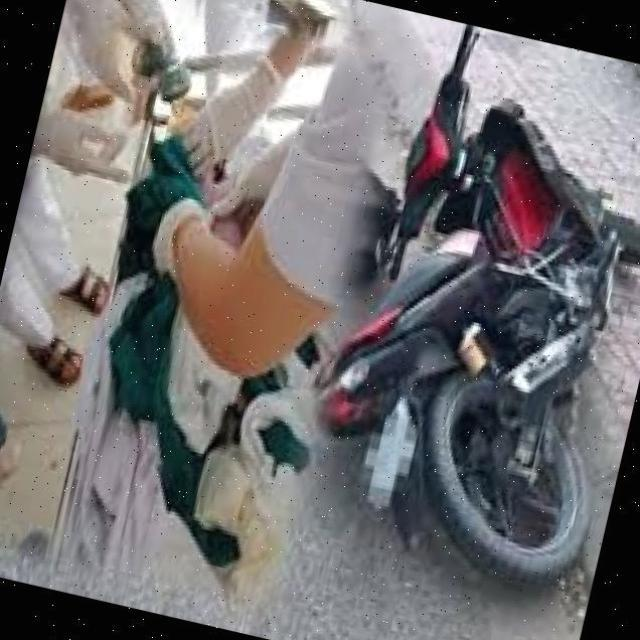accident: (261, 5, 640, 610)
